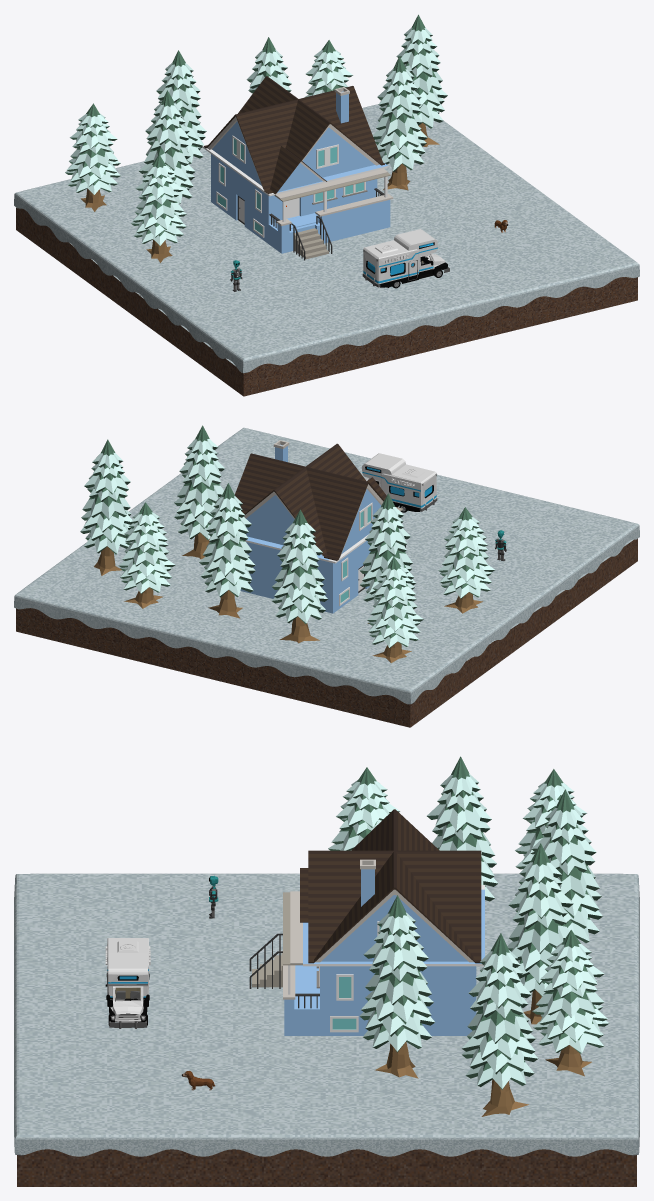
3 renders of one model, top to bottom at view 1: azimuth 30°, elevation 25°; view 2: azimuth 150°, elevation 25°; view 3: azimuth 270°, elevation 25°, orthographic. The views are drawn at different scales.
Parts seen in each view (by area): view 1: Cube.003, Cube.1594, VEHICLES_CAMPER; view 2: Cube.003, Cube.1594, VEHICLES_CAMPER; view 3: Cube.003, Cube.1594, VEHICLES_CAMPER.
Boxes of the visible parts, x1,y1,x2,y2 form: Cube.003: (14, 14, 639, 396); Cube.1594: (202, 76, 393, 260); VEHICLES_CAMPER: (362, 229, 449, 288); Cube.003: (14, 425, 639, 727); Cube.1594: (235, 440, 405, 613); VEHICLES_CAMPER: (362, 453, 437, 512); Cube.003: (14, 756, 639, 1186); Cube.1594: (249, 809, 484, 1035); VEHICLES_CAMPER: (105, 938, 150, 1028).
Size of the model in its own units: 4040 by 1715 by 4040.
Materials: 35 (4 with a texture image).
